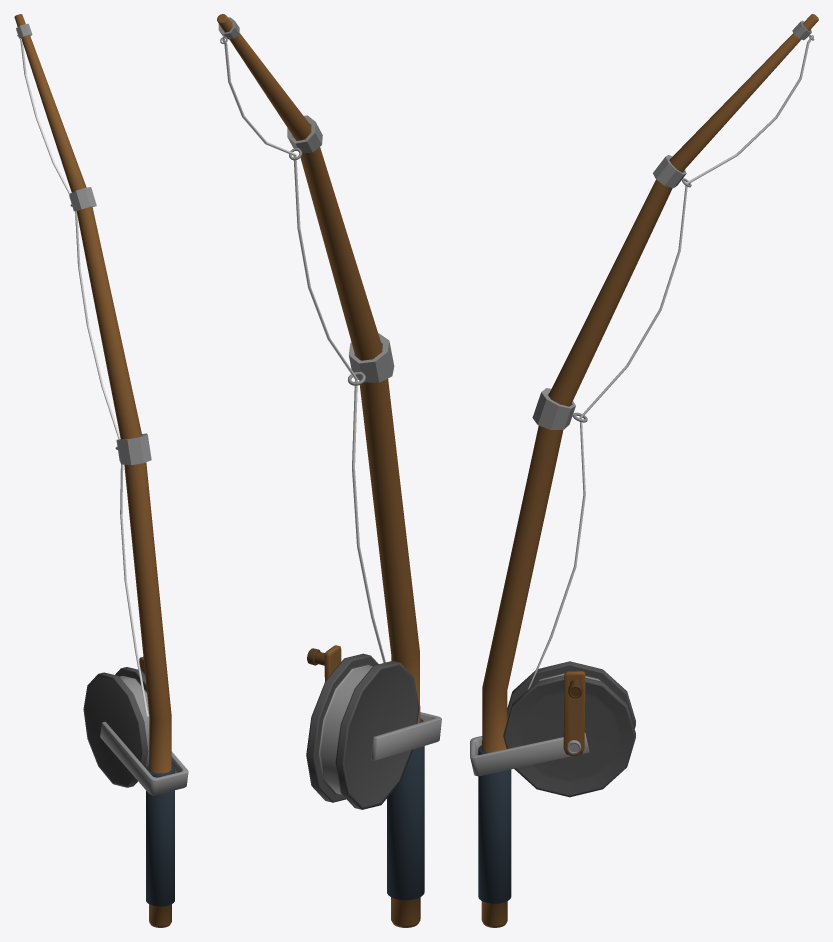
The model's file is 2024_GoFish_FishingRod_V2.fbx.
The picture shows the model from 3 angles, left to right: view 1: azimuth 30°, elevation 25°; view 2: azimuth 150°, elevation 25°; view 3: azimuth 270°, elevation 25°; orthographic projection. The views are drawn at different scales.
Visible parts, largest first — view 1: RodBody_geo, Reel_geo, Line_geo, Reel_Connector_geo, Loop_01_geo, Loop_02_geo; view 2: RodBody_geo, Reel_geo, Line_geo, Reel_Connector_geo, Loop_01_geo, Loop_02_geo, Handle_geo; view 3: RodBody_geo, Reel_geo, Reel_Connector_geo, Line_geo, Handle_geo, Loop_01_geo.
Boxes of the visible parts, left/top/right/bottom form: RodBody_geo: left=14, top=14, right=174, bottom=927; Reel_geo: left=83, top=667, right=149, bottom=787; Line_geo: left=20, top=38, right=148, bottom=716; Reel_Connector_geo: left=100, top=721, right=188, bottom=795; Loop_01_geo: left=115, top=433, right=151, bottom=465; Loop_02_geo: left=69, top=187, right=96, bottom=211; RodBody_geo: left=217, top=14, right=424, bottom=927; Reel_geo: left=306, top=653, right=419, bottom=809; Line_geo: left=222, top=38, right=385, bottom=662; Reel_Connector_geo: left=371, top=712, right=441, bottom=760; Loop_01_geo: left=348, top=333, right=394, bottom=385; Loop_02_geo: left=287, top=115, right=322, bottom=160; Handle_geo: left=307, top=645, right=341, bottom=681; RodBody_geo: left=478, top=14, right=818, bottom=927; Reel_geo: left=503, top=661, right=635, bottom=797; Reel_Connector_geo: left=470, top=733, right=589, bottom=776; Line_geo: left=527, top=35, right=813, bottom=689; Handle_geo: left=563, top=671, right=585, bottom=755; Loop_01_geo: left=532, top=388, right=587, bottom=429.
Bounding box in the file's own units: 0.0766 × 1.04 × 0.3625.
